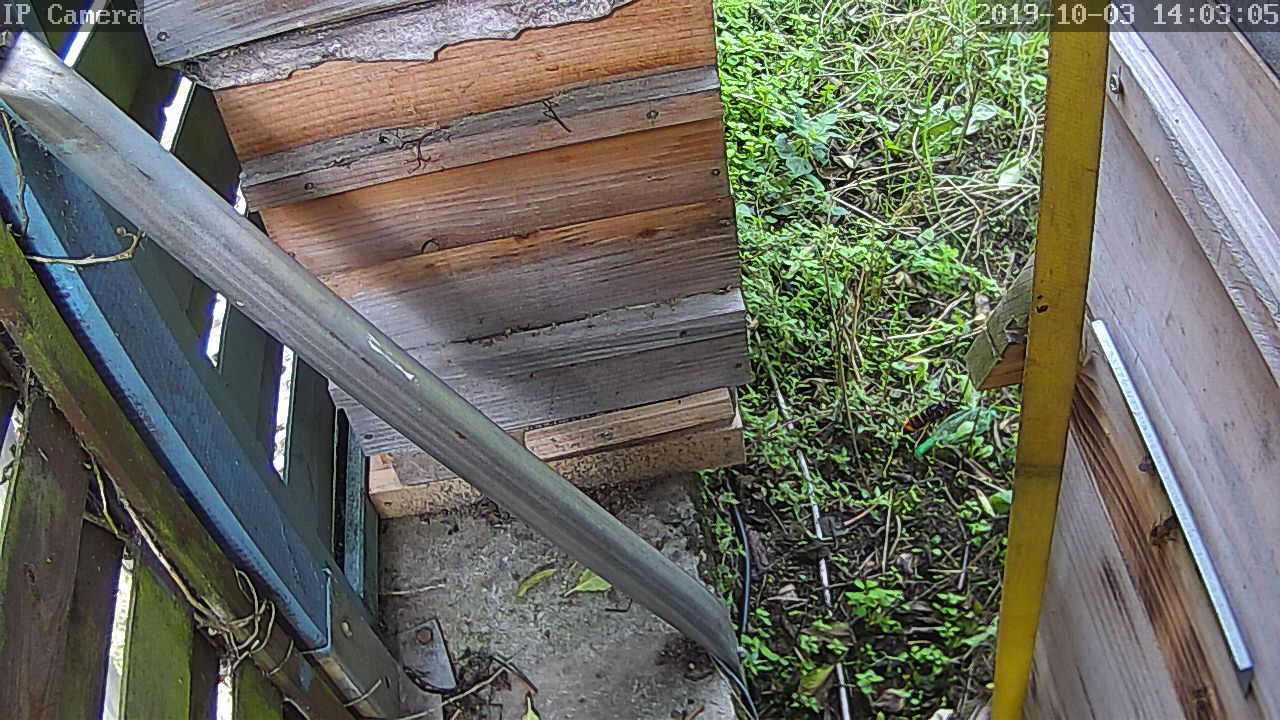bee: (1145, 512, 1187, 552), (1135, 458, 1164, 490)
hornet: (893, 395, 950, 440)
